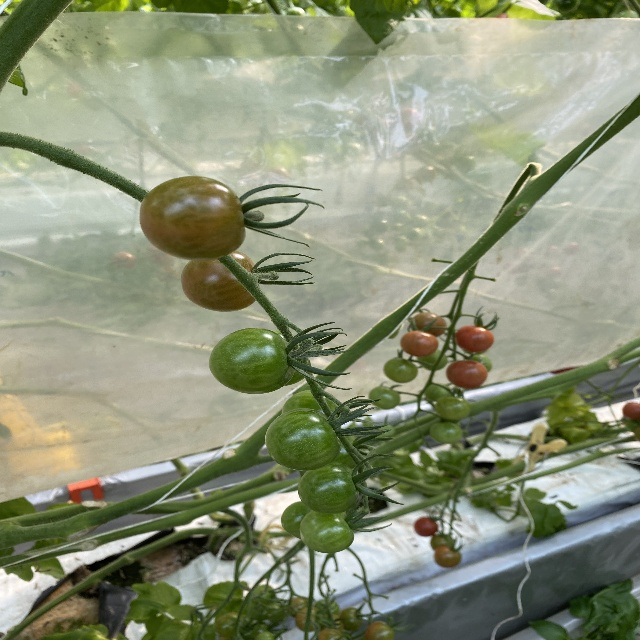l_fully_ripened: (457, 326, 494, 352)
l_green: (208, 327, 293, 395), (266, 408, 342, 471), (297, 461, 362, 514), (282, 389, 342, 432), (299, 509, 355, 554), (275, 331, 313, 385), (280, 501, 311, 538), (432, 396, 472, 419), (383, 357, 418, 383), (368, 385, 401, 410), (428, 422, 461, 444)
l_half_ripened: (137, 175, 245, 260), (180, 249, 261, 312), (445, 360, 488, 388), (399, 328, 438, 357), (410, 313, 447, 337)
